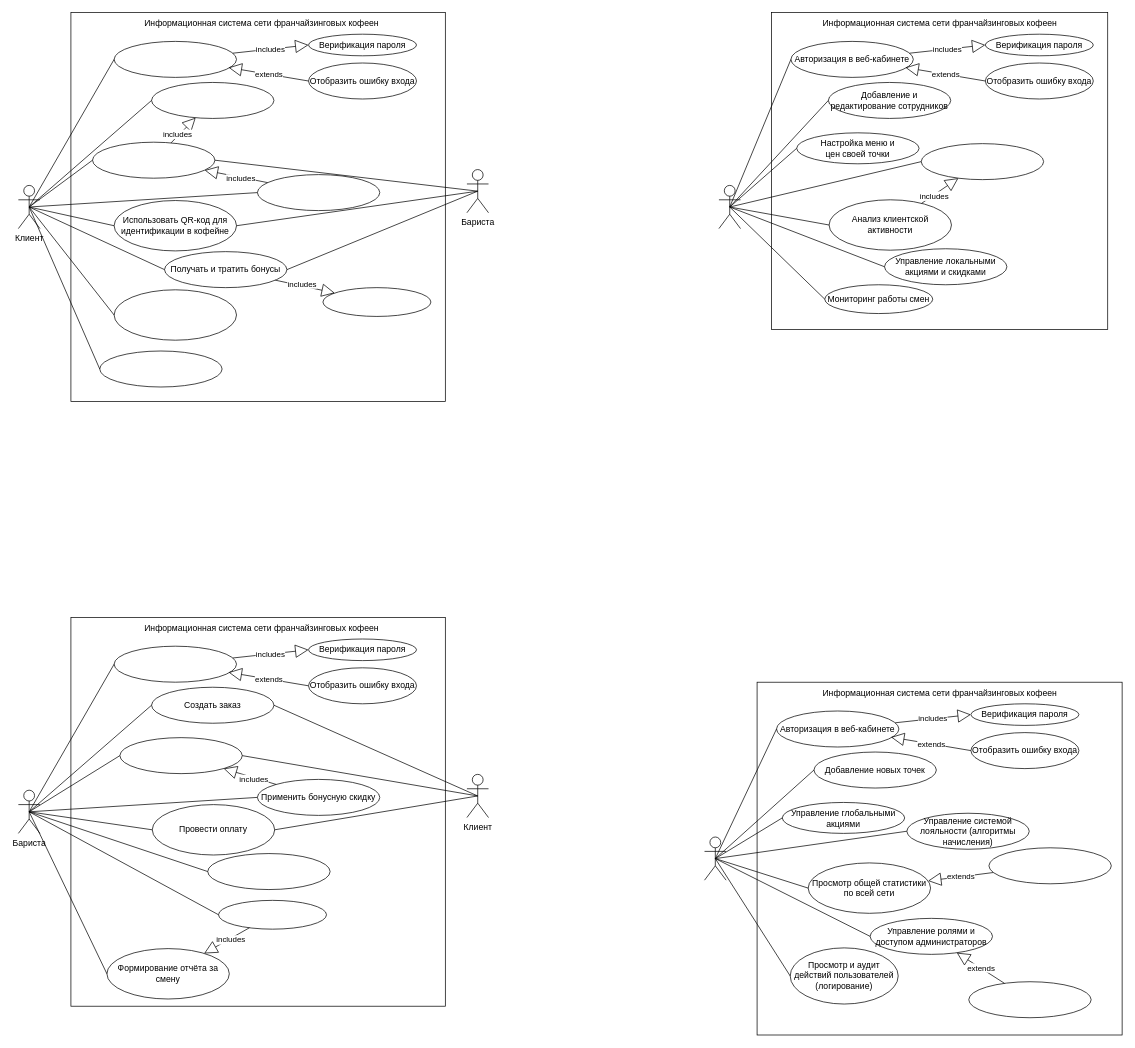
Image size: 1135x1048. Some labels were removed from this diagram. Each missing label, with the box of its shape:
Авторизоваться в системе: (113, 645, 237, 682)
Авторизоваться по номеру телефона.: (113, 41, 237, 77)
Администратор точки: (718, 185, 741, 229)
Главный администратор: (704, 836, 726, 880)
Изменить статус заказа: (207, 853, 330, 890)
Опубликовать уведомление для всех администраторов: (968, 981, 1091, 1018)
Открытие и закрытие смены: (218, 900, 327, 929)
Отсканировать QR-код клиента: (119, 737, 242, 774)
Оформить заказ на самовывоз: (92, 141, 215, 178)
Получать уведомления об акциях: (99, 350, 222, 387)
Проверить наличие бонусов: (322, 287, 431, 316)
Просматривать историю заказов и бонусных операций: (113, 289, 237, 340)
Просматривать меню кофейни: (151, 82, 274, 118)
Просматривать статус текущего заказа: (257, 174, 380, 211)
Просмотр статистики продаж: (921, 143, 1044, 180)
Создать глобальный отчёт о продажах: (988, 847, 1111, 884)
